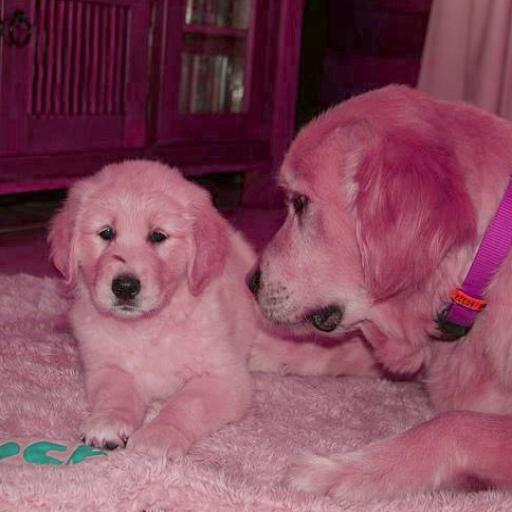dog_face: (264, 101, 501, 356), (50, 162, 226, 319)
